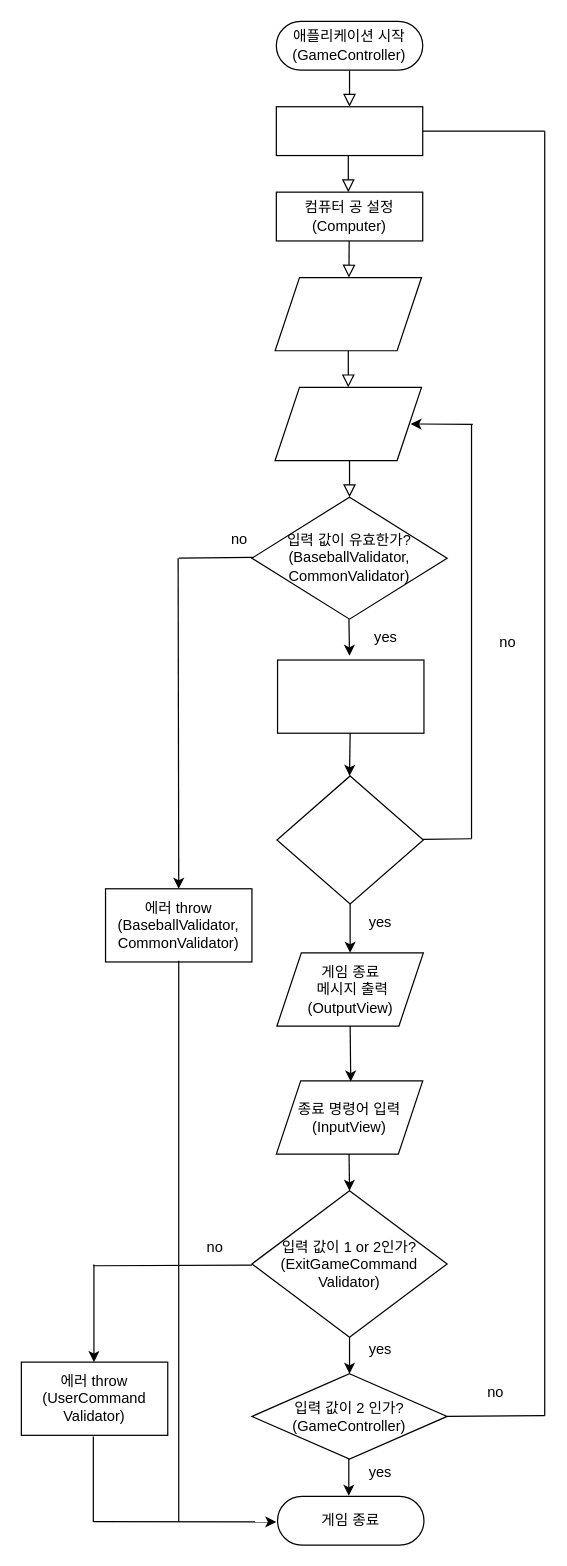
This 567x1566 diagram has some shape labels left out. Each missing label, with the centre of its shape:
3Strike인가? (Computer): the point at 349,839
게임 시작 메시지 출력 (OutputView): the point at 348,313
야구공 생성 (BaseballMaker): the point at 349,131
유저 공과 컴퓨터 공 비교 (Computer): the point at 350,696
유저 야구공 입력 (InputView): the point at 348,423
